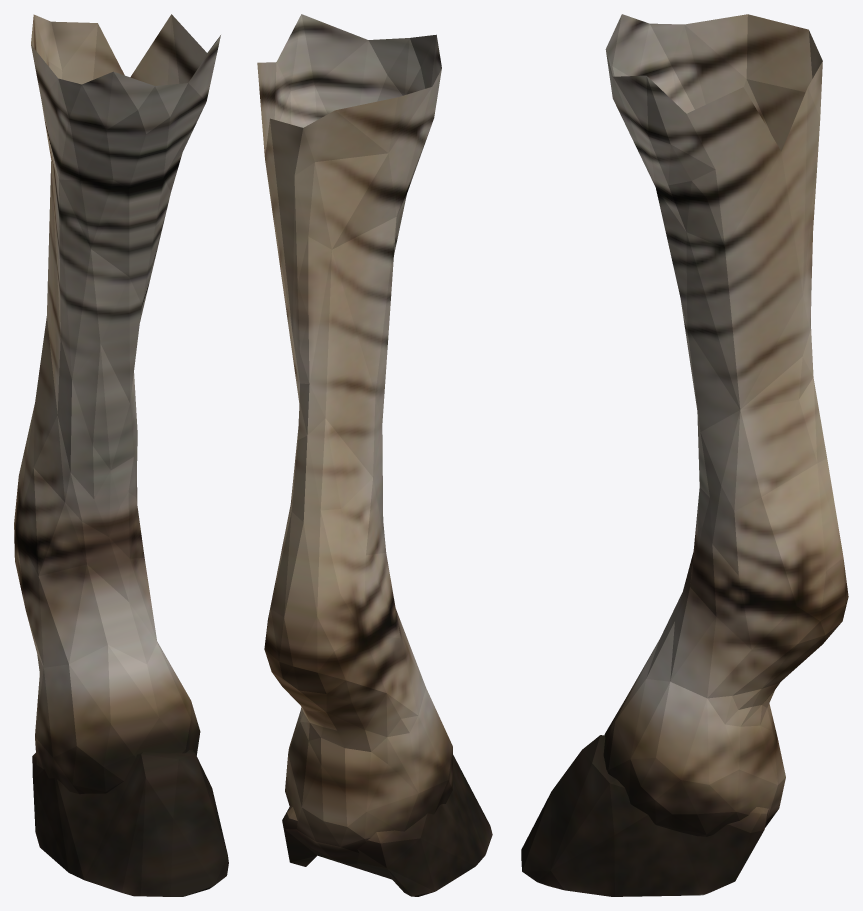
The model's file is Zpzfd.obj.
3 renders of one model, left to right at view 1: azimuth 30°, elevation 25°; view 2: azimuth 150°, elevation 25°; view 3: azimuth 270°, elevation 25°, orthographic. The views are drawn at different scales.
Visible parts, largest first — view 1: PzFD; view 2: PzFD; view 3: PzFD.
Boxes of the visible parts, x1,y1,x2,y2 form: PzFD: [14, 14, 228, 896]; PzFD: [257, 14, 492, 896]; PzFD: [521, 14, 848, 896].
Size of the model in its own units: 0.1114 by 0.5112 by 0.1815.
Materials: 1 (1 with a texture image).
